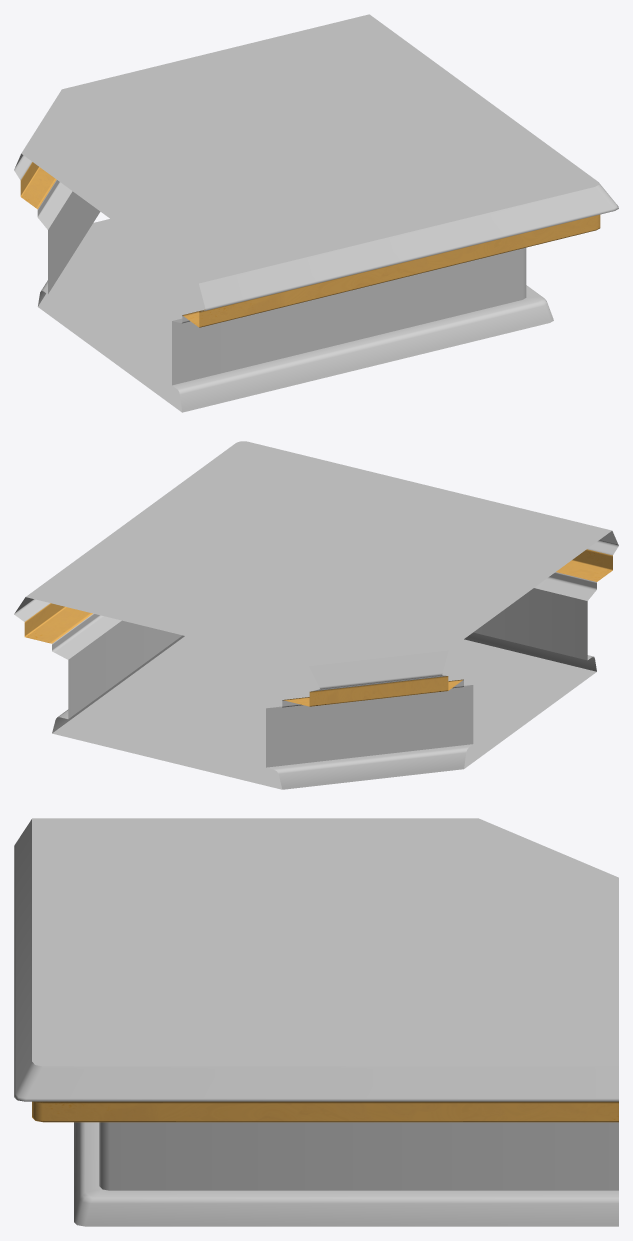
File: SM_Beam_02_Corner.fbx
3 views of the same model, one above another, from view 1: azimuth 30°, elevation 25°; view 2: azimuth 150°, elevation 25°; view 3: azimuth 270°, elevation 25° (orthographic). The views are drawn at different scales.
Visible parts, largest first — view 1: SM_Beam_02_Corner_LOD0; view 2: SM_Beam_02_Corner_LOD0; view 3: SM_Beam_02_Corner_LOD0.
Part boxes in pixels (x1=…): SM_Beam_02_Corner_LOD0: x1=14, y1=14, x2=618, y2=412; SM_Beam_02_Corner_LOD0: x1=14, y1=441, x2=618, y2=789; SM_Beam_02_Corner_LOD0: x1=14, y1=818, x2=618, y2=1226.
Size of the model in its own units: 333 by 333 by 108.
